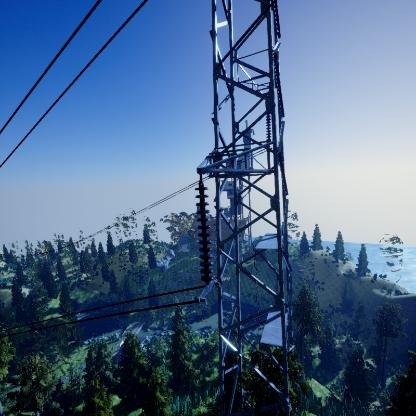insulator: (193, 185, 216, 283)
